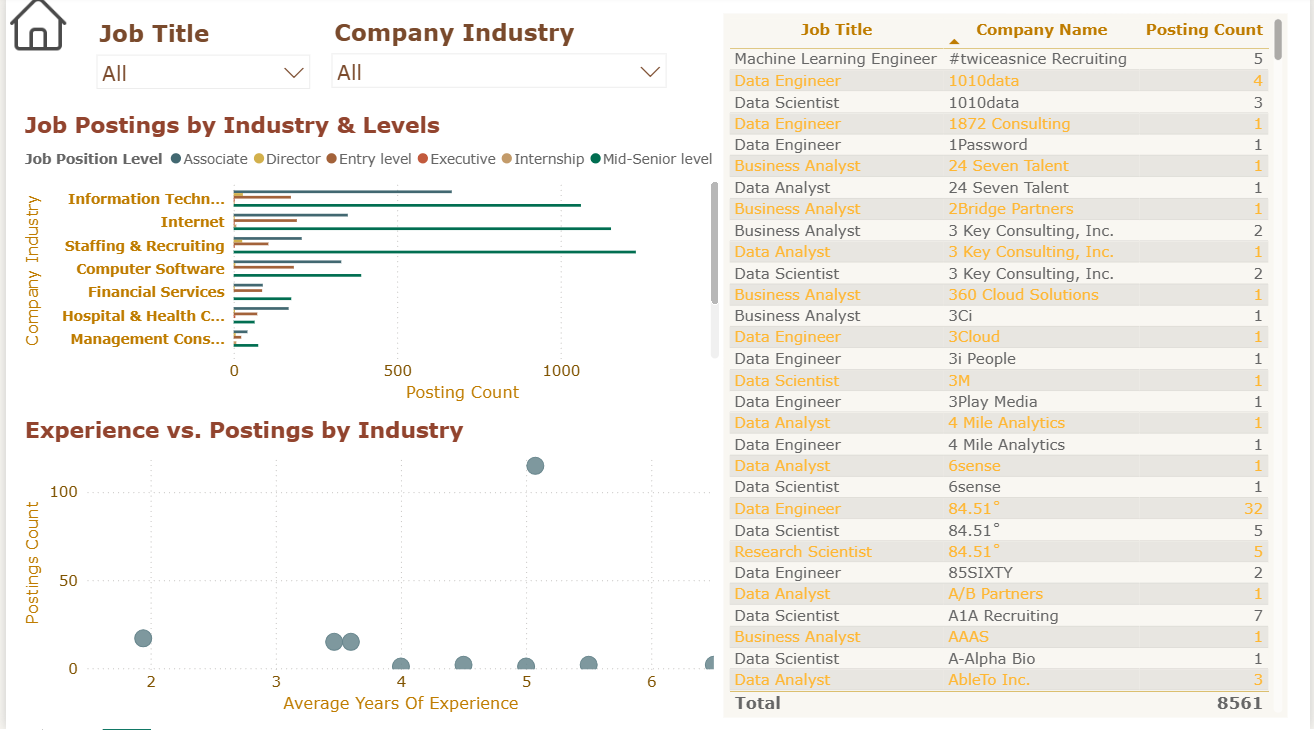

The page's visual inventory and layout, read from the dashboard file:
{"tool":"powerbi","page":{"name":"2","canvas":[1280,720],"ordinal":1},"visuals":[{"type":"slicer","fields":{"Values":["job_postings.Company Industry"]},"box":[308.8,17.3,349.1,82.2],"z":0},{"type":"image","box":[0,0,63.5,54.8],"z":1000},{"type":"clusteredBarChart","title":"Job Postings by Industry & Levels","fields":{"Category":["job_postings.Company Industry"],"Series":["job_postings.Job Position Level"],"Y":["Job skills.posting count"]},"box":[13.2,112.7,691.5,290],"z":2000},{"type":"tableEx","fields":{"Values":["job_postings.Job Title","job_postings.Company Name","Job skills.posting count"]},"box":[704.7,16.8,553.7,691.5],"z":3000},{"type":"slicer","fields":{"Values":["job_postings.Job Title"]},"box":[77.9,18.1,230.1,81.5],"z":4000},{"type":"scatterChart","title":"Experience vs. Postings by Industry","fields":{"Category":["job_postings.Company Industry"],"X":["Avg(job_postings.Years of Experience)"],"Y":["Job skills.posting count"]},"box":[13.2,412.3,691.5,296],"z":5000}]}

Visuals, with their boxes in screenshot pixels (x1, y1, x2, y2), scaled from the page's 1280x720 canvas onto the 1314x730 screenshot:
slicer - job_postings.Company Industry: {"left": 317, "top": 18, "right": 675, "bottom": 101}
image: {"left": 0, "top": 0, "right": 65, "bottom": 56}
"Job Postings by Industry & Levels" clusteredBarChart: {"left": 14, "top": 114, "right": 723, "bottom": 408}
tableEx - job_postings.Job Title x job_postings.Company Name: {"left": 723, "top": 17, "right": 1292, "bottom": 718}
slicer - job_postings.Job Title: {"left": 80, "top": 18, "right": 316, "bottom": 101}
"Experience vs. Postings by Industry" scatterChart: {"left": 14, "top": 418, "right": 723, "bottom": 718}
